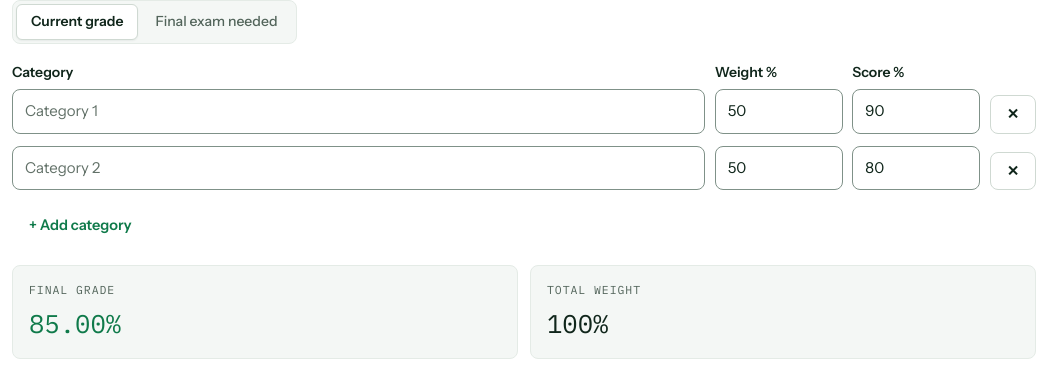
GradeCalculator › computes required final: current 85, final weight 30%, want 90 → ~101.67% (>100 warning)
Click the tab "Final exam needed": (216, 22) [140, 4, 292, 40]
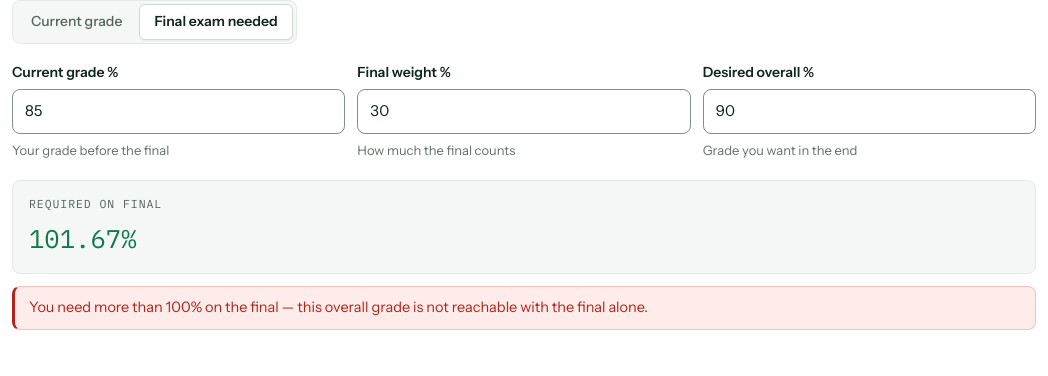
Check: the text "more than 100%" is shown, box [29, 298, 648, 316]
